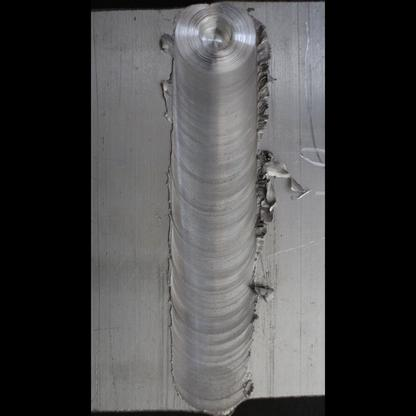flash: (252, 18, 309, 249), (251, 271, 277, 306), (158, 75, 176, 125), (241, 370, 257, 398), (159, 30, 175, 55)
keyhole: (169, 7, 268, 73)
